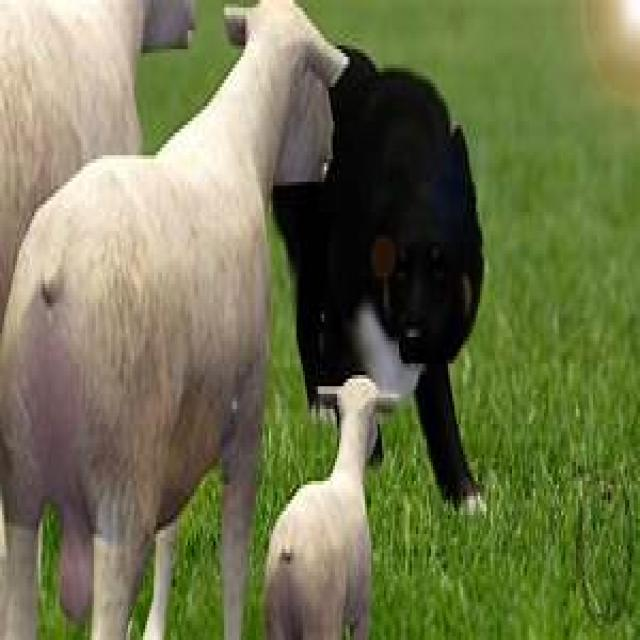dog: (267, 37, 492, 523)
sheep: (0, 0, 349, 640), (0, 0, 196, 329), (262, 377, 398, 640)
